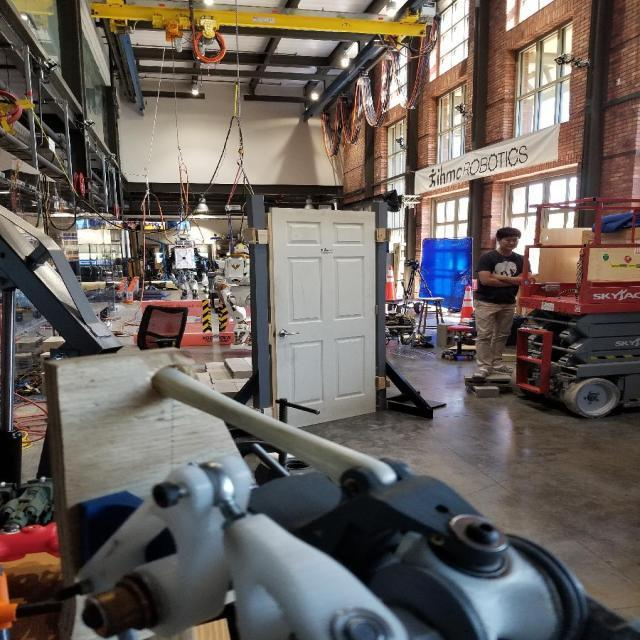door: (268, 206, 380, 433), (276, 326, 304, 342)
